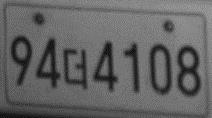0: (148, 44, 172, 94)
1: (120, 41, 148, 93)
4: (92, 40, 120, 92), (34, 37, 61, 88)
8: (176, 45, 202, 97)
9: (10, 35, 33, 87)
더: (62, 46, 89, 91)
